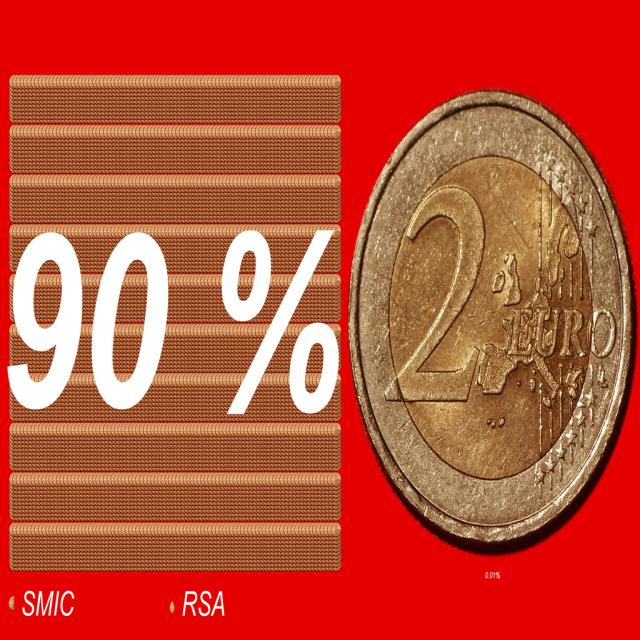Coin: (348, 88, 635, 552)
